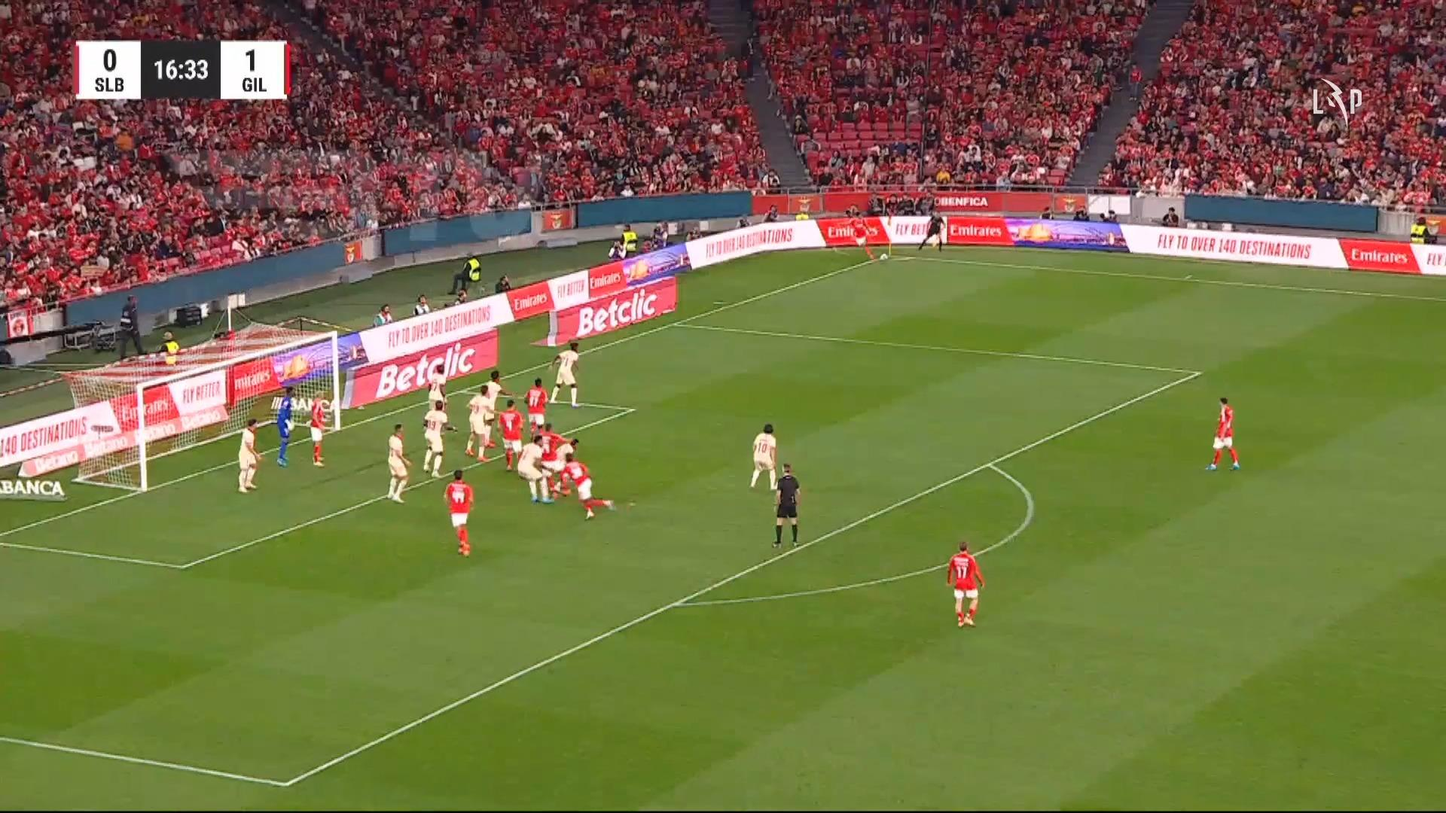ball: (879, 252, 888, 260)
goalkeeper: (271, 385, 295, 467)
player: (558, 451, 615, 520), (945, 540, 985, 627), (535, 422, 578, 496), (421, 399, 456, 478), (444, 469, 474, 556), (1205, 396, 1240, 470), (517, 434, 554, 504), (482, 369, 514, 446), (546, 340, 581, 408), (464, 385, 494, 461), (386, 423, 411, 503), (749, 422, 778, 490), (498, 399, 524, 471), (307, 391, 331, 467), (236, 418, 260, 493), (844, 212, 877, 262), (523, 377, 548, 436), (426, 364, 447, 413)
referee: (771, 462, 801, 548), (917, 209, 945, 251)
